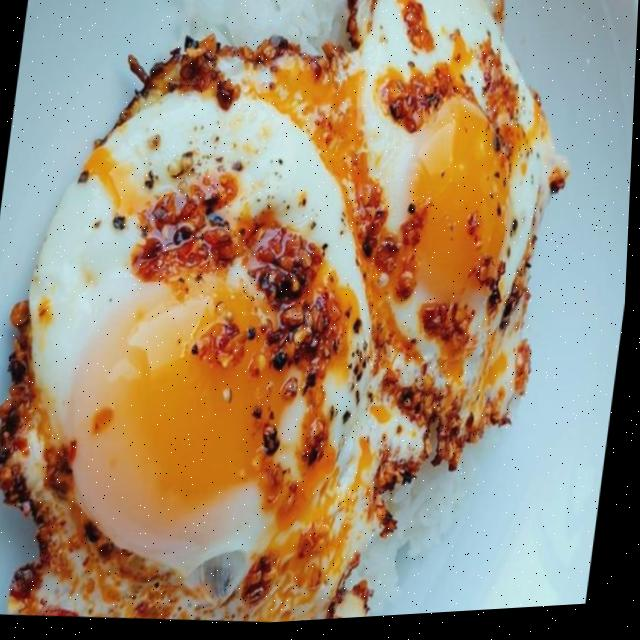Egg: (34, 94, 369, 606), (354, 0, 567, 468)
